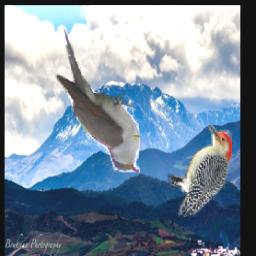Cuckoo: (55, 26, 141, 173)
Woodpecker: (168, 126, 232, 218)
